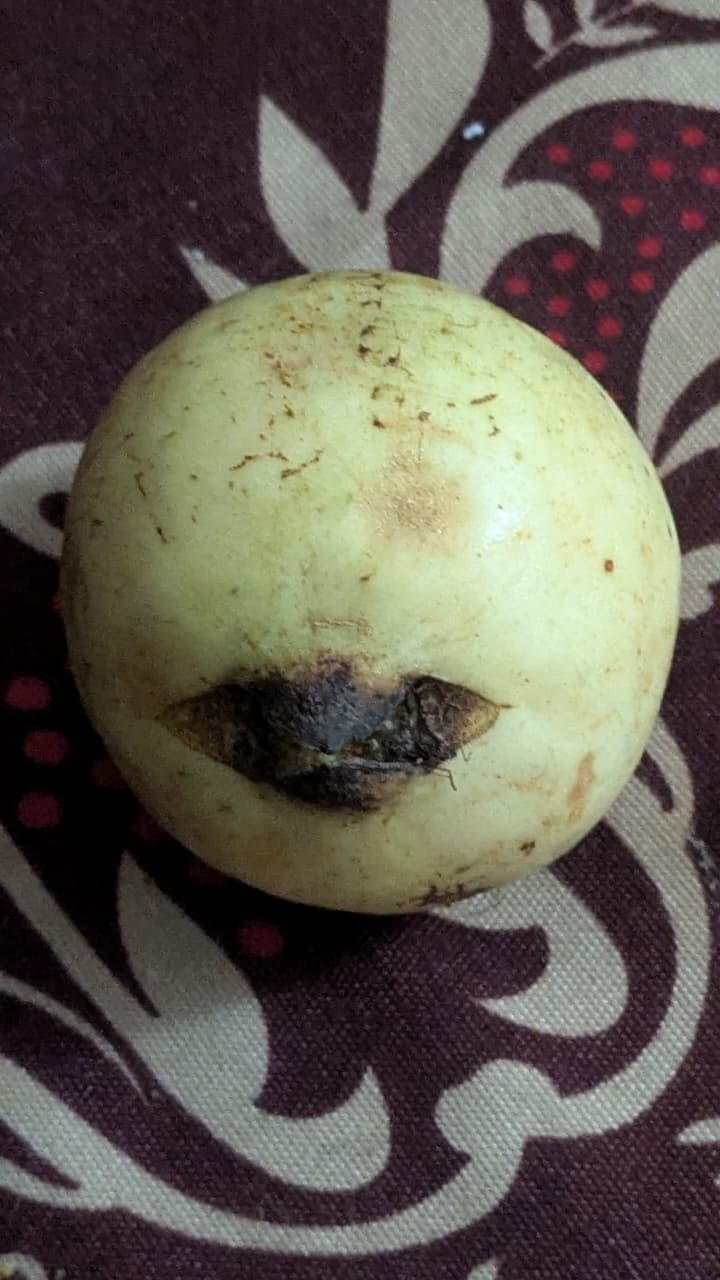guava: (105, 0, 720, 1073)
